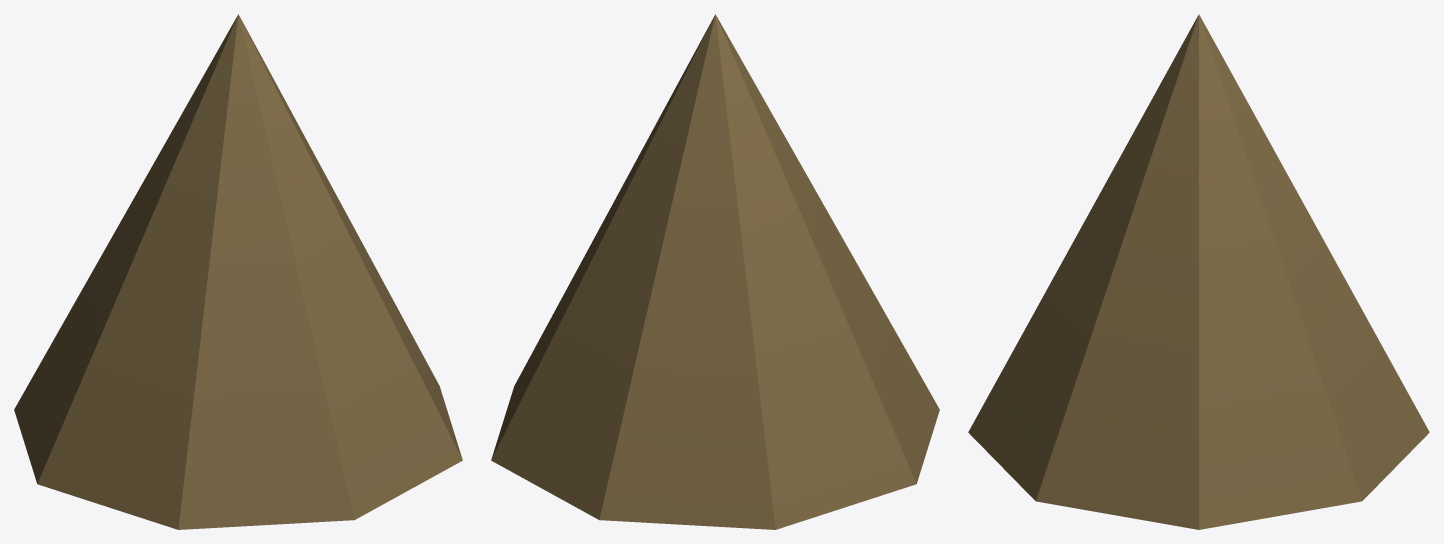
File: Proxy_Spire_Thatch.gltf
3 renders of one model, left to right at view 1: azimuth 30°, elevation 25°; view 2: azimuth 150°, elevation 25°; view 3: azimuth 270°, elevation 25°, orthographic.
Visible parts, largest first — view 1: Spire_Thatch; view 2: Spire_Thatch; view 3: Spire_Thatch.
Part boxes in pixels (box(x1,y1,x2,y2)): Spire_Thatch: box(14, 14, 462, 529); Spire_Thatch: box(491, 14, 939, 529); Spire_Thatch: box(968, 14, 1429, 529).
Bounding box in the file's own units: 1 × 1 × 1.
